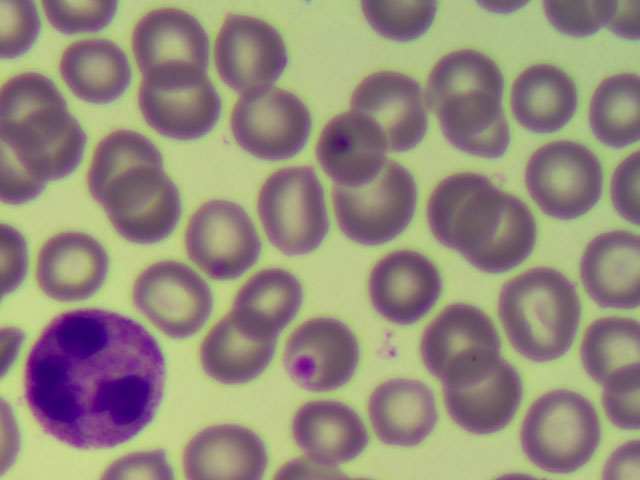Platelets: (291, 356, 314, 379), (330, 136, 349, 153)
RBC: (498, 270, 579, 363), (330, 156, 416, 243), (441, 348, 522, 439), (137, 61, 222, 145), (257, 162, 329, 260), (454, 190, 535, 275), (351, 71, 432, 153), (427, 45, 508, 126), (132, 260, 211, 340), (229, 82, 310, 160), (428, 166, 503, 250), (130, 5, 210, 82), (528, 138, 604, 219), (423, 304, 497, 386), (522, 389, 595, 471), (91, 129, 161, 211), (108, 164, 181, 242), (203, 307, 275, 384), (370, 248, 440, 327), (218, 12, 286, 92), (36, 229, 109, 299), (1, 74, 65, 150), (440, 91, 510, 159), (61, 39, 133, 105), (511, 62, 577, 134), (366, 379, 437, 445), (182, 425, 267, 480), (17, 112, 85, 180), (1, 116, 54, 202), (294, 402, 365, 464), (235, 271, 300, 337), (580, 315, 640, 386), (589, 231, 640, 310), (592, 72, 640, 149), (186, 197, 251, 253), (362, 1, 433, 45), (317, 319, 364, 384), (541, 1, 612, 39), (1, 1, 42, 64), (601, 367, 640, 433), (43, 1, 115, 36), (1, 224, 27, 295), (103, 455, 176, 480), (273, 457, 349, 480), (1, 398, 21, 480), (600, 1, 639, 43), (604, 439, 640, 480), (1, 326, 25, 379), (473, 1, 534, 19)
WBC: (22, 316, 154, 451)
